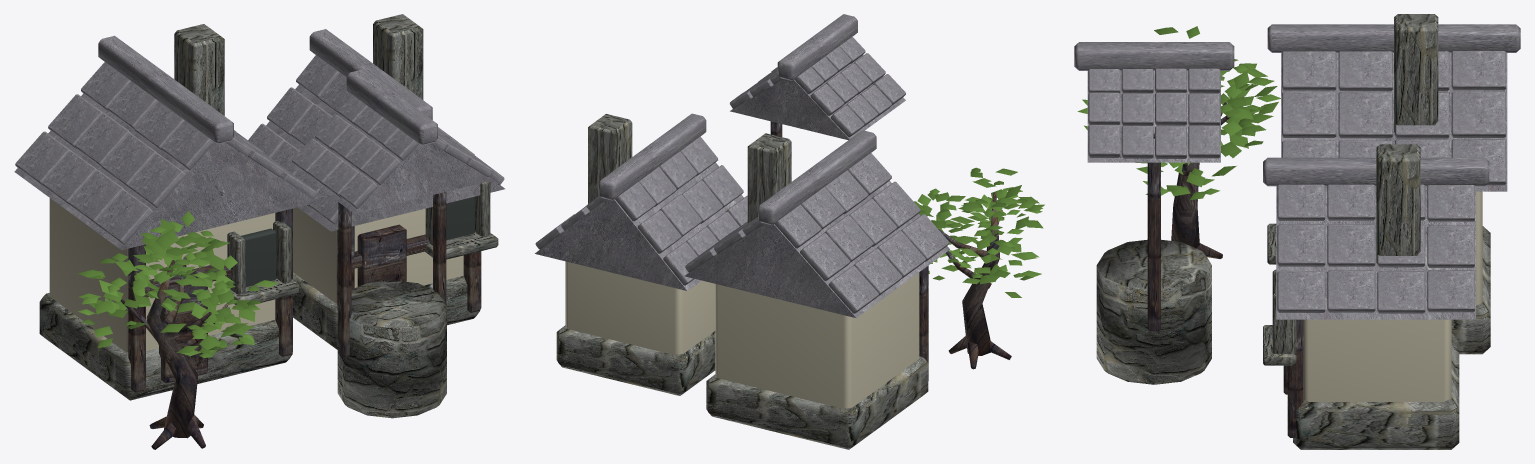
Rendered from env-site-village-mobile.glb.
3 views of the same model, side by side, from view 1: azimuth 30°, elevation 25°; view 2: azimuth 150°, elevation 25°; view 3: azimuth 270°, elevation 25° (orthographic). The views are drawn at different scales.
Visible parts, largest first — view 1: site village · authored textured miniature; view 2: site village · authored textured miniature; view 3: site village · authored textured miniature.
Part boxes in pixels (box(x1,y1,x2,y2)): site village · authored textured miniature: box(14, 14, 504, 449); site village · authored textured miniature: box(535, 14, 1044, 449); site village · authored textured miniature: box(1074, 14, 1520, 449).
Size of the model in its own units: 1.24 by 0.8125 by 1.
Materials: 6 (3 with a texture image).
